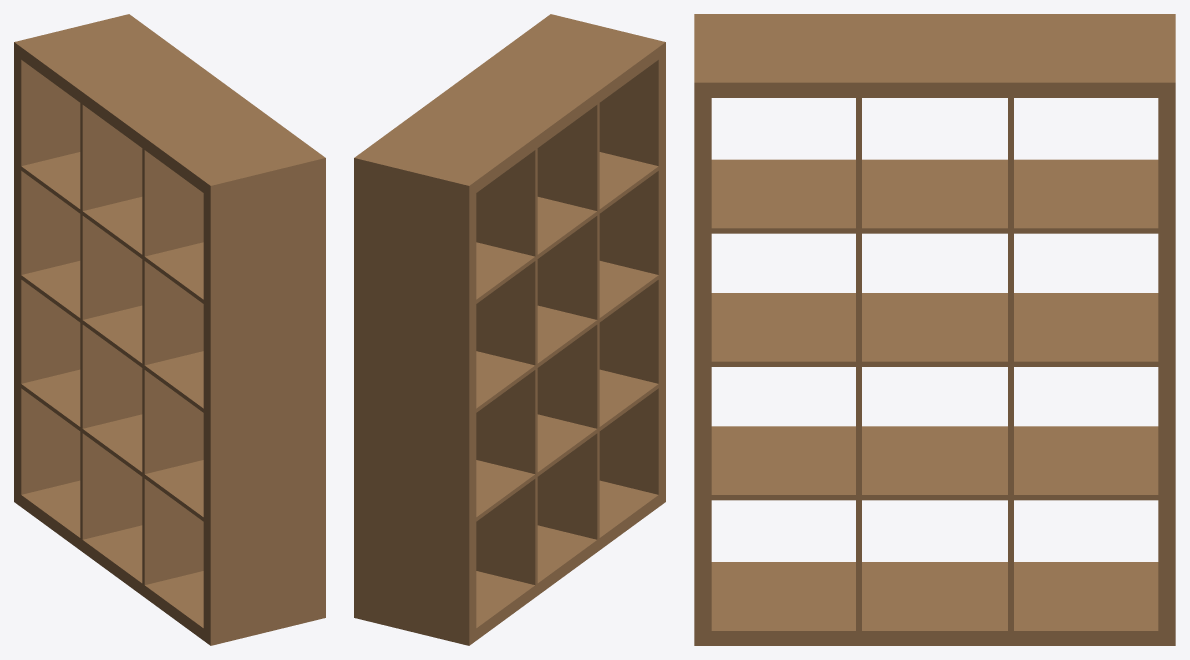
Rendered from rack_1.FBX.
The picture shows the model from 3 angles, left to right: view 1: azimuth 30°, elevation 25°; view 2: azimuth 150°, elevation 25°; view 3: azimuth 270°, elevation 25°; orthographic projection. The views are drawn at different scales.
Visible parts, largest first — view 1: rack_1; view 2: rack_1; view 3: rack_1.
Boxes of the visible parts, x1=… form: rack_1: x1=14, y1=14, x2=325, y2=645; rack_1: x1=354, y1=14, x2=665, y2=645; rack_1: x1=694, y1=14, x2=1175, y2=645.
Bounding box in the file's own units: 0.3901 × 1.49 × 1.15.
